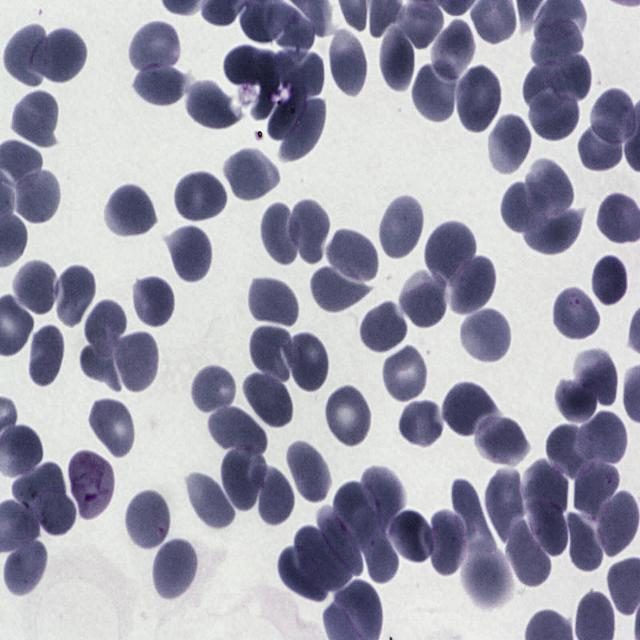red blood cell: (294, 524, 352, 595), (3, 26, 60, 93), (423, 217, 477, 287), (334, 481, 382, 554), (325, 383, 375, 452), (150, 536, 202, 602), (108, 329, 160, 395), (173, 167, 231, 226), (222, 146, 282, 203), (446, 251, 498, 316), (183, 78, 243, 134), (356, 508, 399, 586), (184, 468, 236, 532), (443, 381, 500, 439), (312, 259, 371, 315), (571, 458, 622, 522), (283, 329, 332, 395), (2, 533, 50, 600), (38, 24, 89, 87), (222, 441, 266, 514), (288, 195, 333, 266), (524, 204, 582, 259), (104, 183, 158, 242), (319, 509, 365, 578), (400, 269, 452, 330), (164, 226, 215, 288), (326, 224, 377, 286), (429, 20, 474, 90), (246, 370, 296, 432), (10, 167, 64, 224), (426, 506, 469, 577), (88, 396, 136, 459), (327, 30, 370, 100), (385, 508, 436, 567), (570, 348, 621, 407), (206, 405, 266, 455), (412, 59, 458, 124), (456, 64, 501, 130), (595, 490, 640, 556), (485, 469, 524, 544), (126, 489, 169, 556), (378, 22, 418, 94), (279, 546, 332, 600), (507, 522, 552, 585), (382, 345, 430, 403), (85, 296, 129, 359), (28, 321, 68, 390), (460, 310, 512, 363), (253, 464, 296, 528), (526, 160, 574, 217), (248, 276, 301, 327), (528, 90, 581, 141), (286, 441, 330, 502), (361, 466, 406, 525), (250, 321, 294, 381), (547, 426, 595, 481), (13, 90, 60, 146), (381, 198, 422, 262), (591, 87, 637, 144), (488, 115, 532, 174), (130, 278, 178, 332), (474, 415, 528, 463), (14, 263, 60, 319), (128, 23, 179, 72), (553, 288, 601, 340), (12, 462, 65, 509), (566, 510, 604, 575), (260, 201, 299, 264), (57, 264, 96, 327), (360, 304, 410, 352), (522, 62, 570, 112), (522, 461, 569, 512), (532, 20, 584, 66), (529, 496, 568, 555), (580, 414, 626, 464), (190, 366, 238, 413), (33, 488, 79, 537), (134, 64, 188, 105), (578, 124, 624, 171), (591, 254, 631, 308), (398, 402, 445, 447), (555, 378, 599, 426), (550, 54, 592, 101), (80, 343, 120, 390), (502, 182, 538, 233)
ring: (69, 450, 114, 520)
